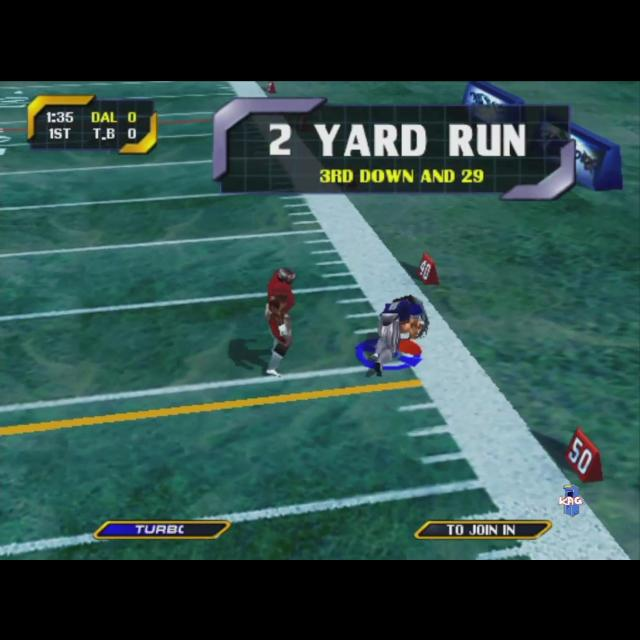player: (370, 294, 430, 376), (264, 267, 296, 377)
